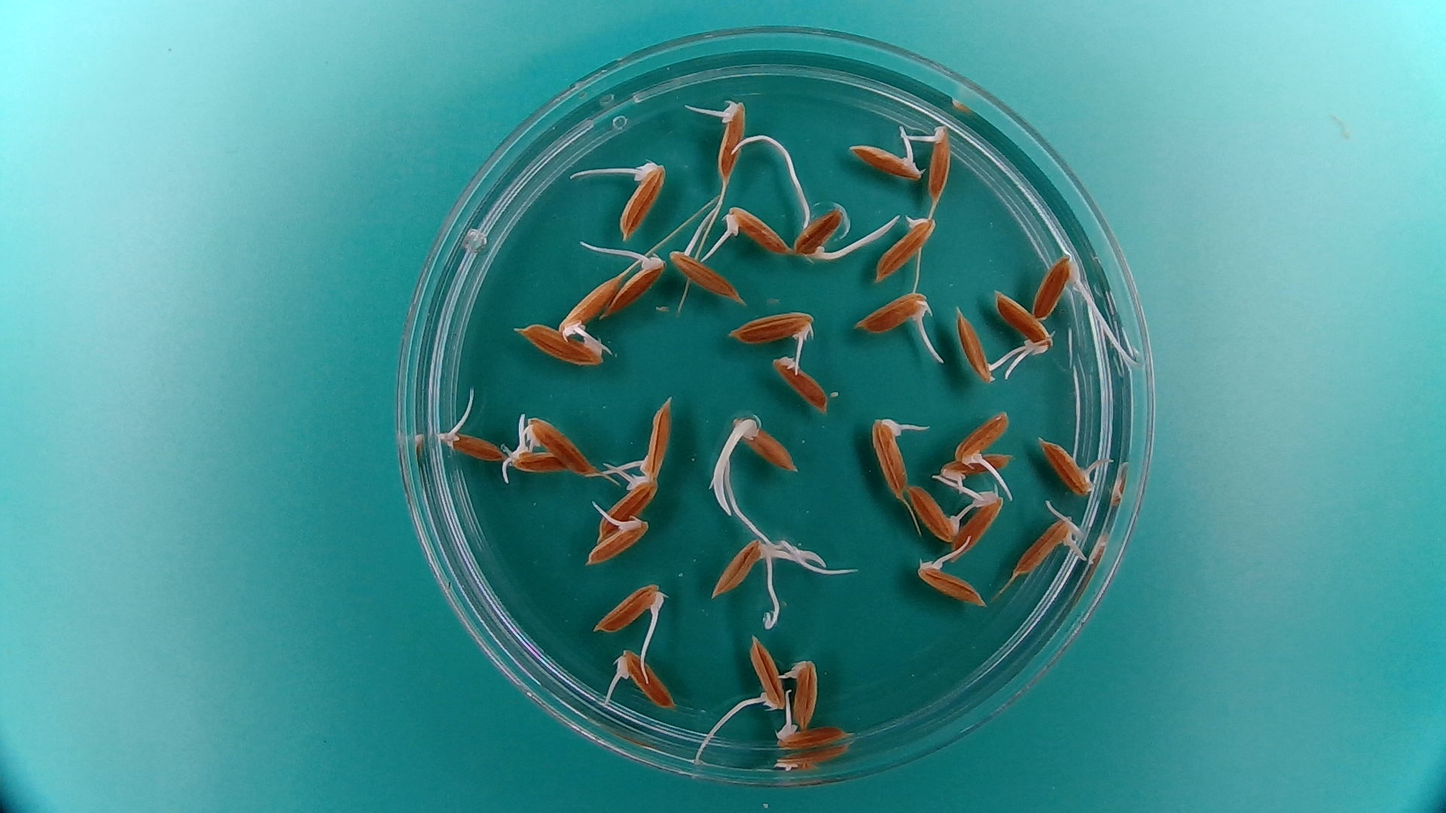no: (515, 318, 609, 370), (773, 354, 837, 414)
yes: (872, 209, 938, 285), (604, 246, 670, 318), (556, 272, 620, 342), (590, 580, 670, 635), (850, 288, 935, 338), (718, 201, 795, 256), (670, 249, 747, 304), (993, 287, 1055, 354), (630, 390, 676, 480), (1010, 513, 1080, 572), (914, 553, 989, 608), (527, 418, 598, 475), (612, 647, 676, 710), (950, 484, 1005, 556), (868, 413, 913, 501), (728, 417, 801, 470), (710, 535, 771, 598), (619, 160, 669, 236), (1038, 434, 1101, 494), (904, 483, 966, 543), (584, 514, 654, 566), (953, 407, 1012, 468), (746, 632, 789, 713), (792, 199, 847, 262), (1031, 248, 1082, 315), (953, 315, 1004, 382), (600, 468, 658, 525), (936, 454, 1016, 495), (731, 307, 818, 344), (714, 99, 749, 184), (844, 146, 926, 182), (784, 655, 820, 729), (435, 428, 508, 464), (923, 123, 956, 200), (770, 720, 850, 751), (507, 444, 568, 478)
